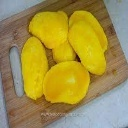mango: (43, 61, 90, 105)
